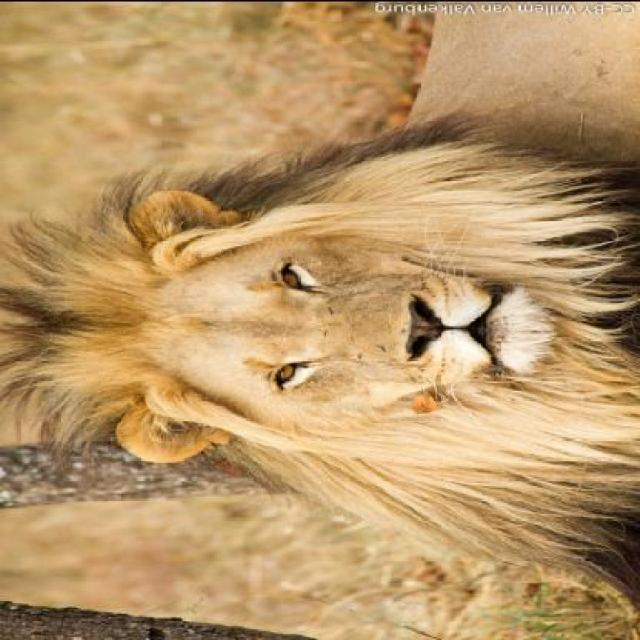Lion: (7, 96, 638, 584)
